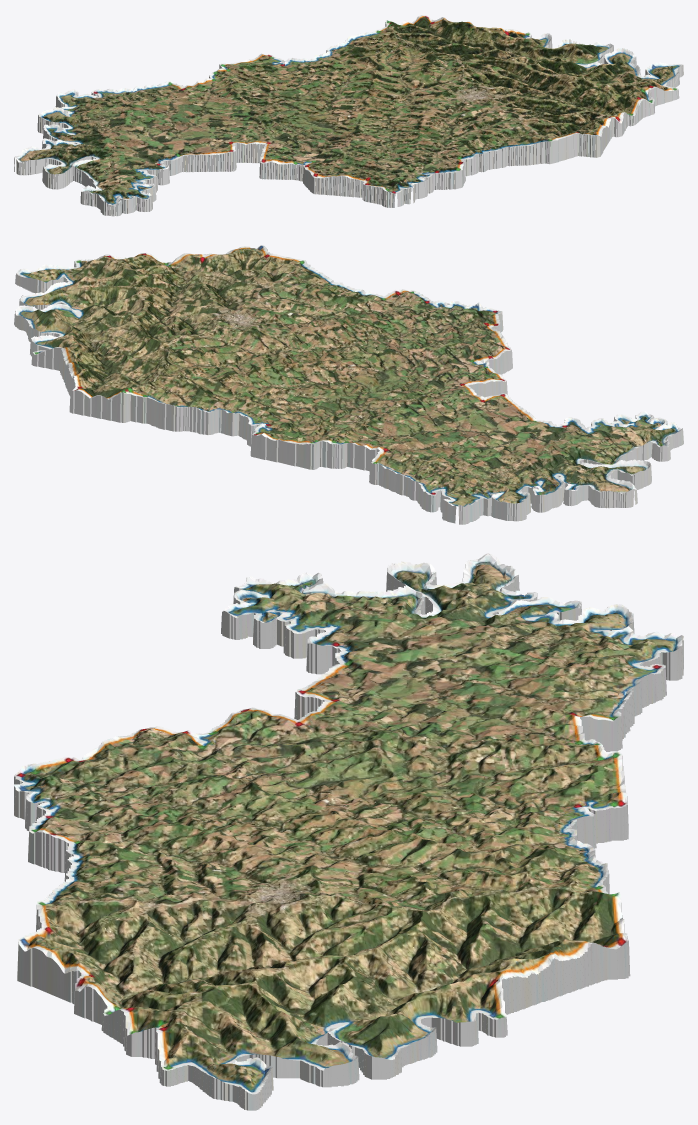
3 views of the same model, one above another, from view 1: azimuth 30°, elevation 25°; view 2: azimuth 150°, elevation 25°; view 3: azimuth 270°, elevation 25° (orthographic). The views are drawn at different scales.
Size of the model in its own units: 0.9998 by 0.0422 by 0.5335.
Materials: 1 (1 with a texture image).
